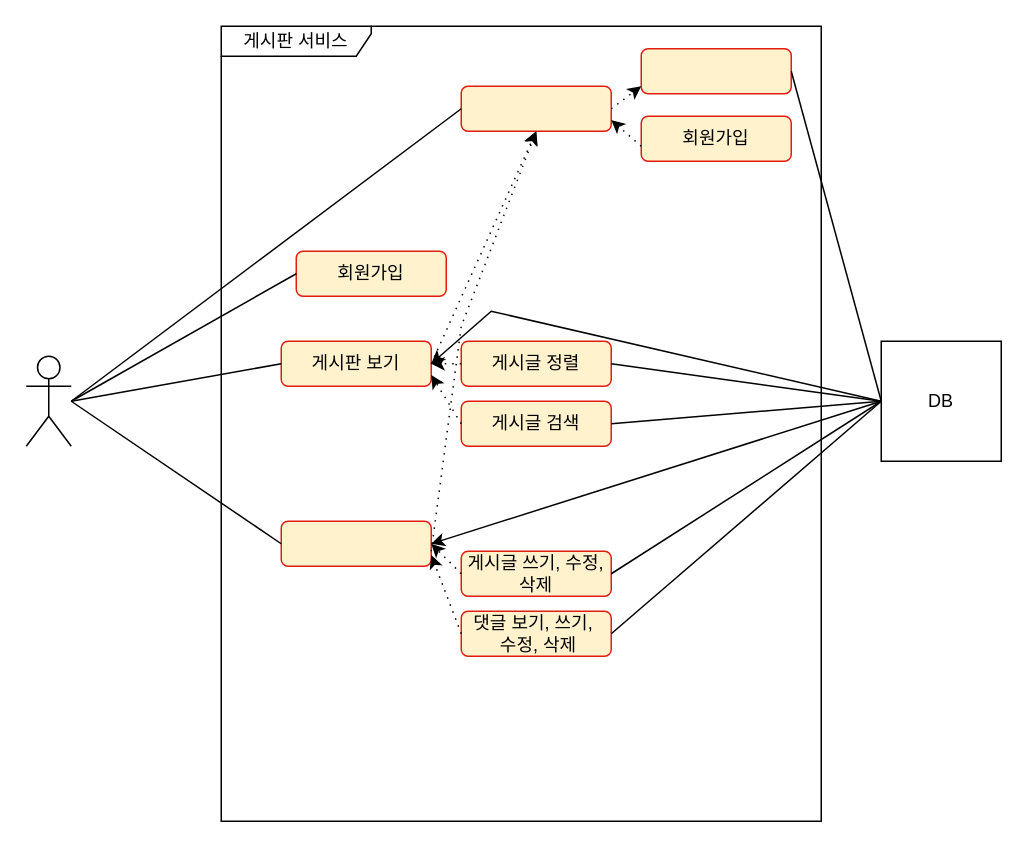
Image size: 1028x848. Some labels were removed from this diagram. Each missing label, with the centre of its shape:
Actor: point (48, 400)
게시글 보기: point (355, 543)
인증: point (715, 70)
회원 로그인: point (535, 108)
